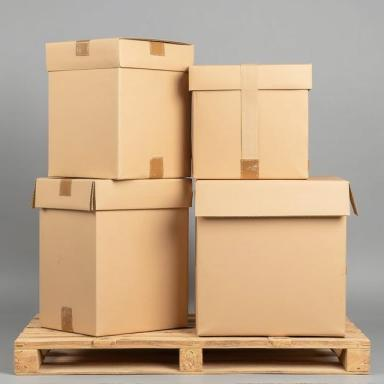pallet: (14, 312, 370, 376), (202, 348, 340, 371), (41, 349, 179, 364)
